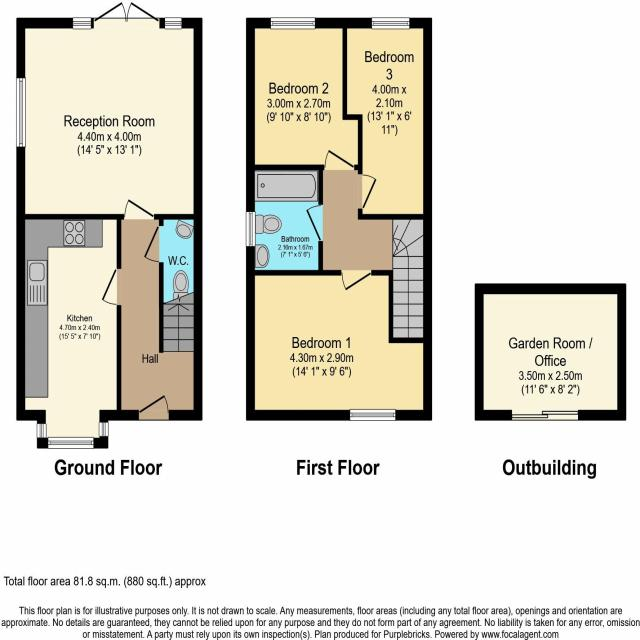DOOR: (100, 266, 122, 307), (142, 224, 164, 264), (138, 393, 170, 420), (357, 173, 378, 210), (341, 269, 373, 292), (323, 148, 356, 170), (123, 198, 155, 220), (305, 203, 323, 242)
ROOM: (16, 0, 203, 220), (246, 270, 432, 421), (16, 213, 122, 449), (342, 17, 433, 220), (246, 17, 363, 171)
WINDOW: (15, 76, 27, 150), (47, 436, 95, 450), (269, 16, 316, 30), (349, 408, 396, 421), (370, 17, 411, 30), (245, 211, 256, 247), (72, 17, 92, 30), (164, 17, 183, 30), (98, 421, 109, 438), (36, 423, 47, 439)
